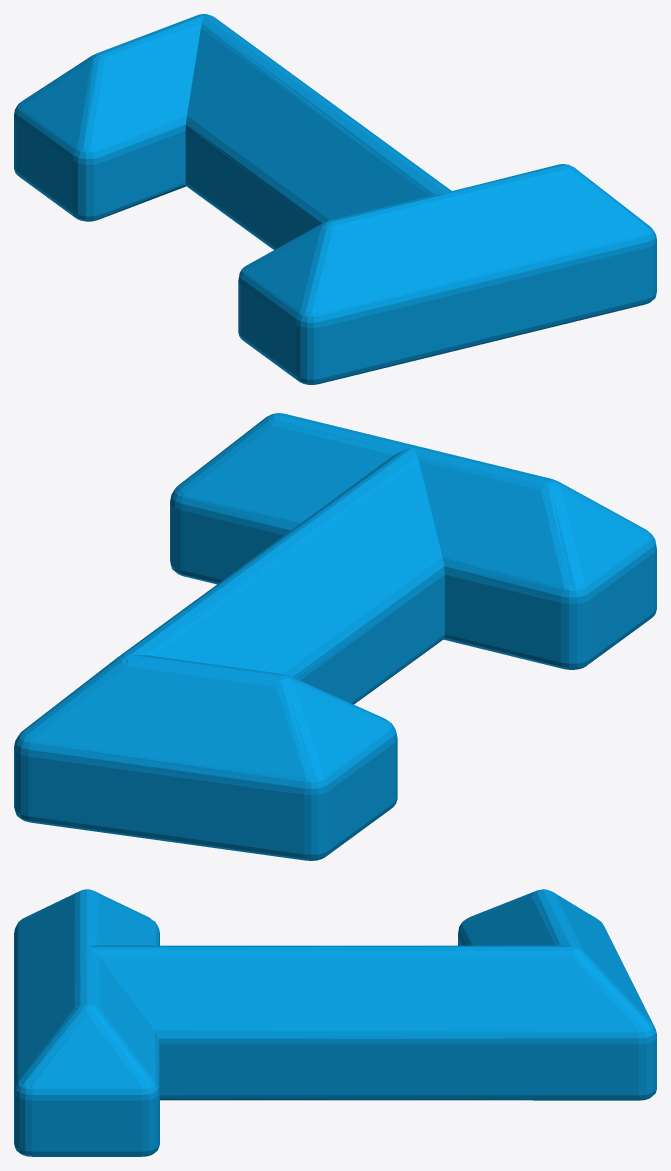
Rendered from numberOne.glb.
The picture shows the model from 3 angles, top to bottom: view 1: azimuth 30°, elevation 25°; view 2: azimuth 150°, elevation 25°; view 3: azimuth 270°, elevation 25°; orthographic projection. The views are drawn at different scales.
Parts seen in each view (by area): view 1: 3MFMeshParent_2; view 2: 3MFMeshParent_2; view 3: 3MFMeshParent_2.
Boxes of the visible parts, x1=… form: 3MFMeshParent_2: x1=14, y1=14, x2=656, y2=384; 3MFMeshParent_2: x1=14, y1=413, x2=656, y2=860; 3MFMeshParent_2: x1=14, y1=889, x2=656, y2=1156.
Bounding box in the file's own units: 15.8 × 5.32 × 24.64.
